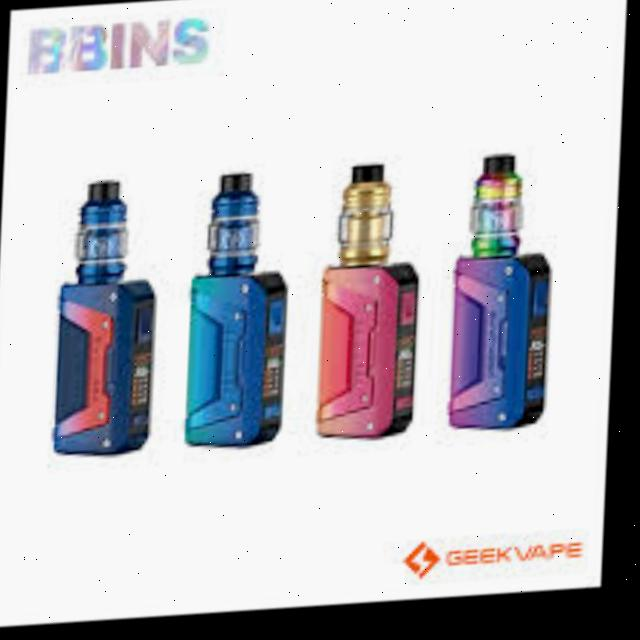vape: (449, 157, 562, 443), (55, 176, 167, 463), (186, 170, 298, 455), (318, 164, 427, 449)
